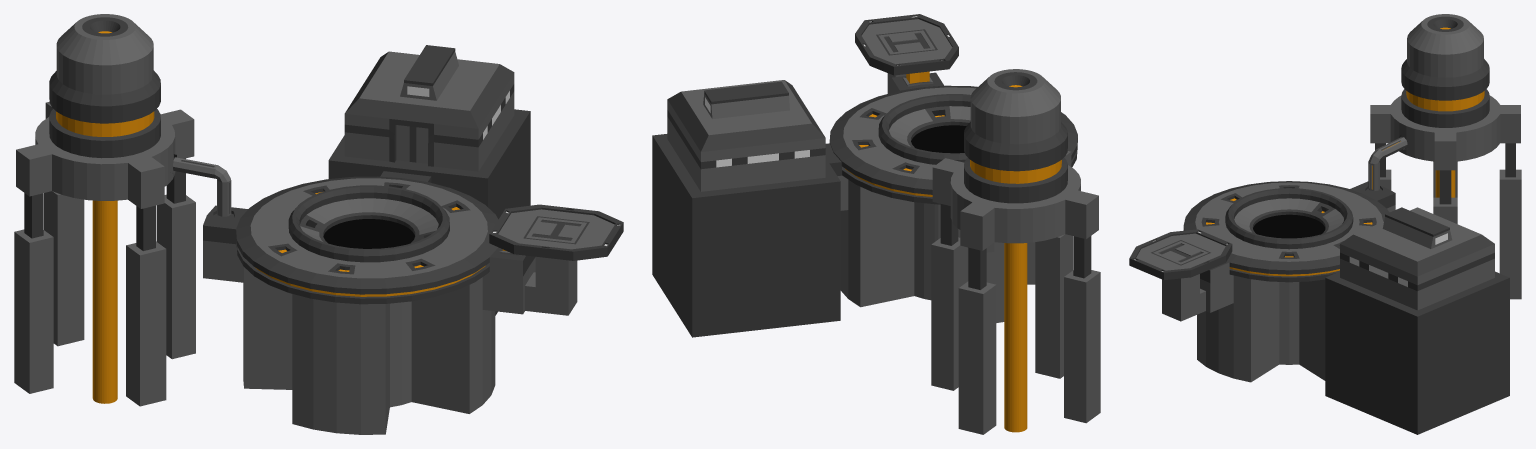
File: PowerBase.fbx
The picture shows the model from 3 angles, left to right: view 1: azimuth 30°, elevation 25°; view 2: azimuth 150°, elevation 25°; view 3: azimuth 270°, elevation 25°; orthographic projection. The views are drawn at different scales.
Parts seen in each view (by area): view 1: Cylinder, Cylinder.001, Cube.001, Cube, Circle; view 2: Cylinder.001, Cube.001, Cylinder, Cube; view 3: Cube.001, Cylinder, Cylinder.001, Cube, Circle.
Part boxes in pixels (left/top/right/bottom): Cylinder: left=203, top=171, right=535, bottom=434; Cylinder.001: left=14, top=14, right=195, bottom=406; Cube.001: left=328, top=45, right=530, bottom=315; Cube: left=489, top=204, right=623, bottom=315; Circle: left=170, top=154, right=234, bottom=217; Cylinder.001: left=931, top=69, right=1100, bottom=434; Cube.001: left=652, top=80, right=840, bottom=337; Cylinder: left=825, top=71, right=1077, bottom=322; Cube: left=855, top=14, right=958, bottom=93; Cube.001: left=1325, top=207, right=1509, bottom=434; Cylinder: left=1183, top=181, right=1395, bottom=382; Cylinder.001: left=1370, top=14, right=1521, bottom=299; Cube: left=1129, top=229, right=1232, bottom=321; Circle: left=1365, top=134, right=1408, bottom=191.
Bounding box in the file's own units: 426 × 308 × 373.
